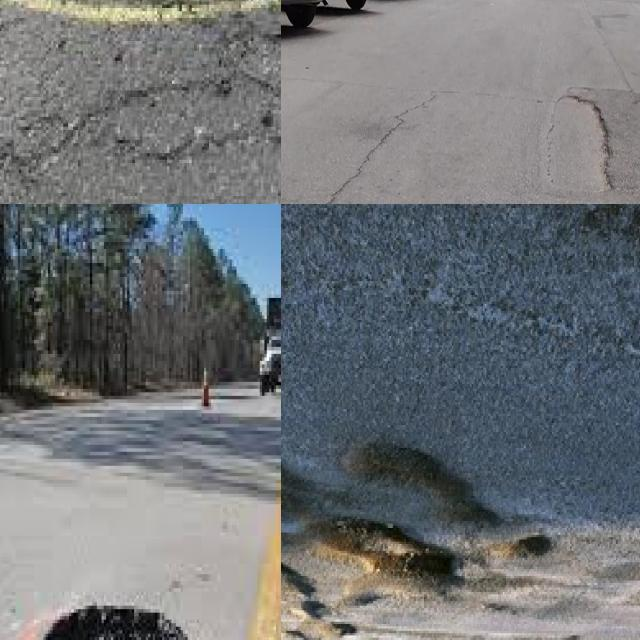Pothole: (339, 442, 511, 539), (308, 519, 464, 605), (344, 441, 500, 524), (545, 92, 616, 196), (281, 563, 357, 640), (42, 606, 188, 640), (515, 536, 553, 556), (343, 591, 382, 606), (484, 602, 510, 611), (564, 635, 580, 639)
